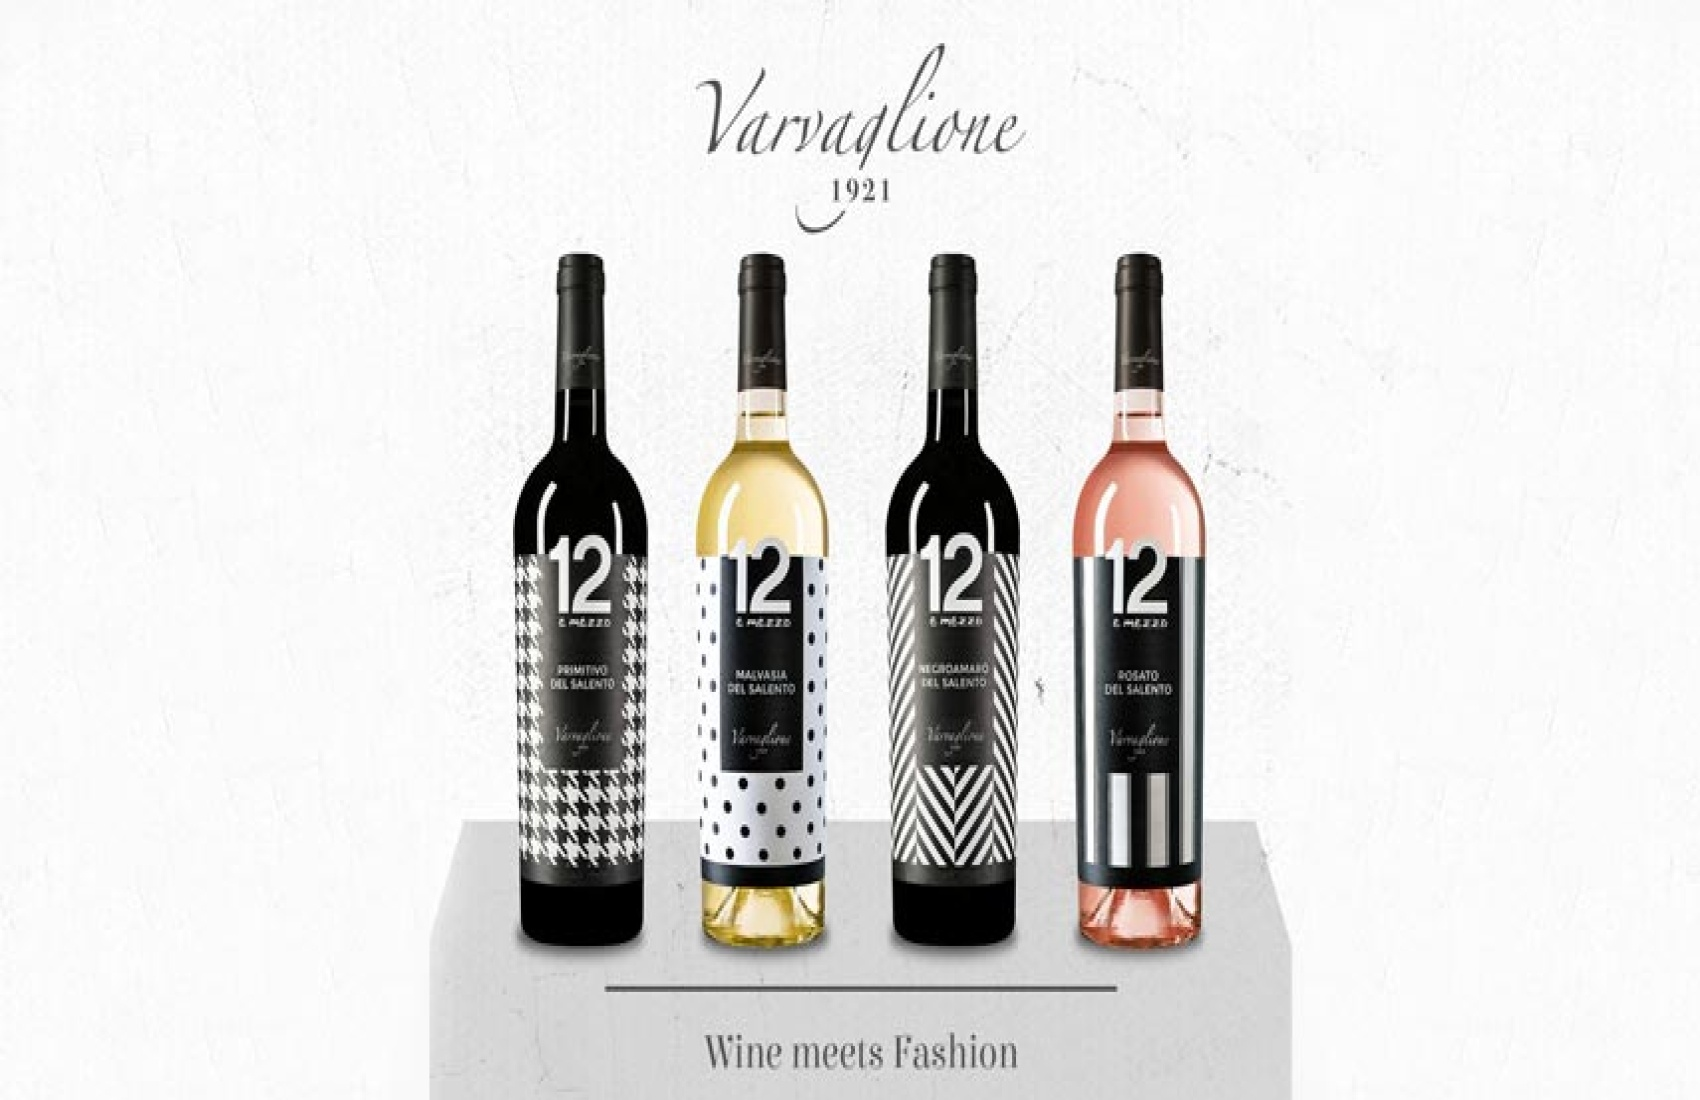wine: (1078, 258, 1199, 936), (700, 268, 822, 945), (891, 259, 1012, 936), (520, 260, 641, 938)
